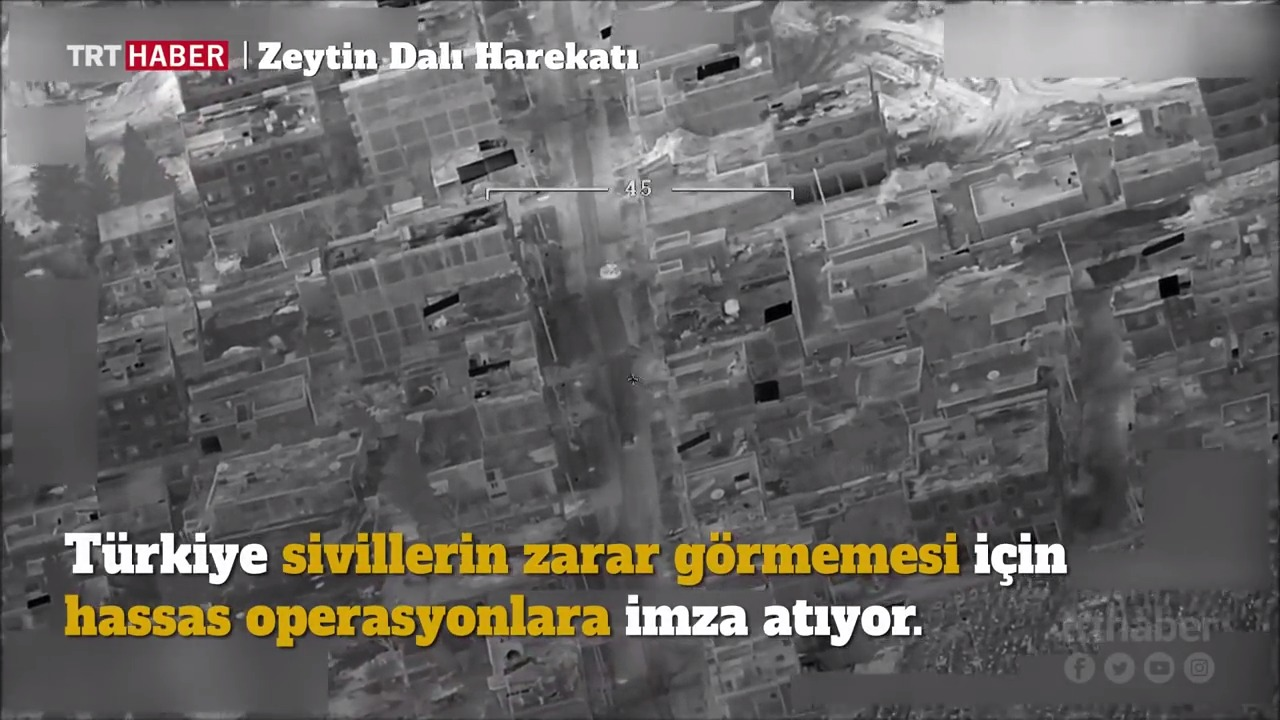arac: (617, 425, 643, 455)
bina: (321, 191, 534, 361), (900, 391, 1089, 531), (187, 421, 380, 535), (167, 78, 336, 207), (770, 53, 903, 195), (631, 218, 780, 309), (952, 140, 1097, 231), (817, 241, 965, 323), (812, 170, 940, 257), (179, 380, 330, 445)
